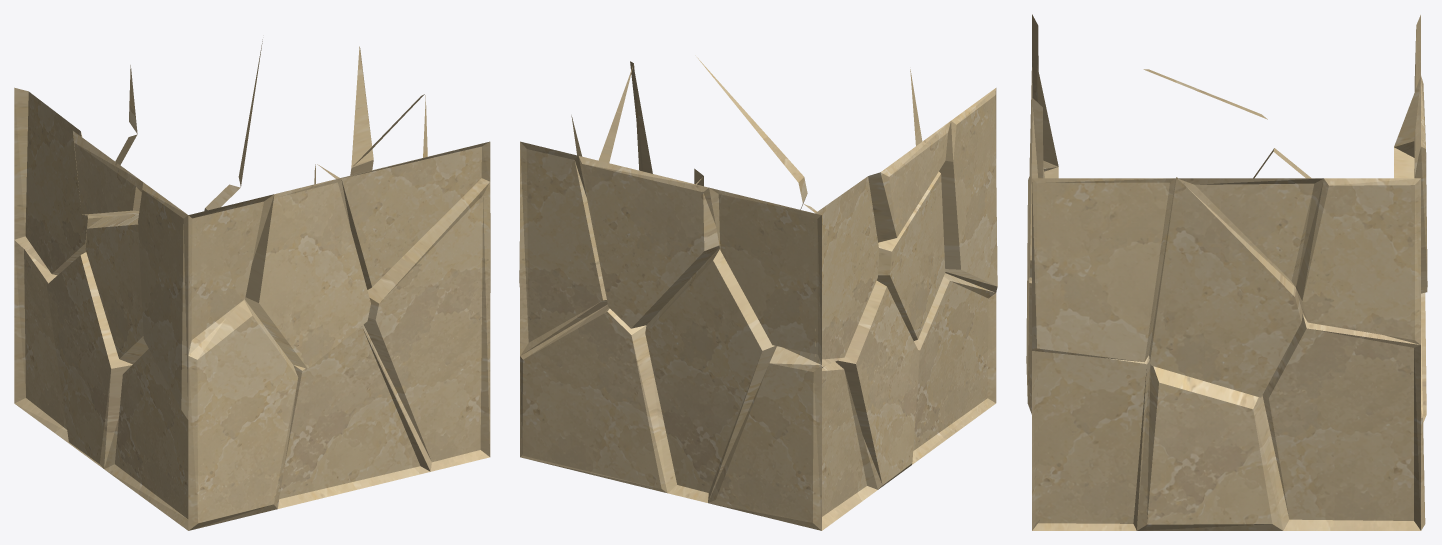
The model's file is ground_rock_08.gltf.
3 views of the same model, side by side, from view 1: azimuth 30°, elevation 25°; view 2: azimuth 150°, elevation 25°; view 3: azimuth 270°, elevation 25° (orthographic). The views are drawn at different scales.
Parts seen in each view (by area): view 1: ground_rock_08; view 2: ground_rock_08; view 3: ground_rock_08.
Part boxes in pixels (<box>): ground_rock_08: <box>14,39,490,530</box>; ground_rock_08: <box>519,55,997,530</box>; ground_rock_08: <box>1026,14,1427,530</box>.
Bounding box in the file's own units: 1.03 × 1 × 1.03.
Materials: 27 (27 with a texture image).
